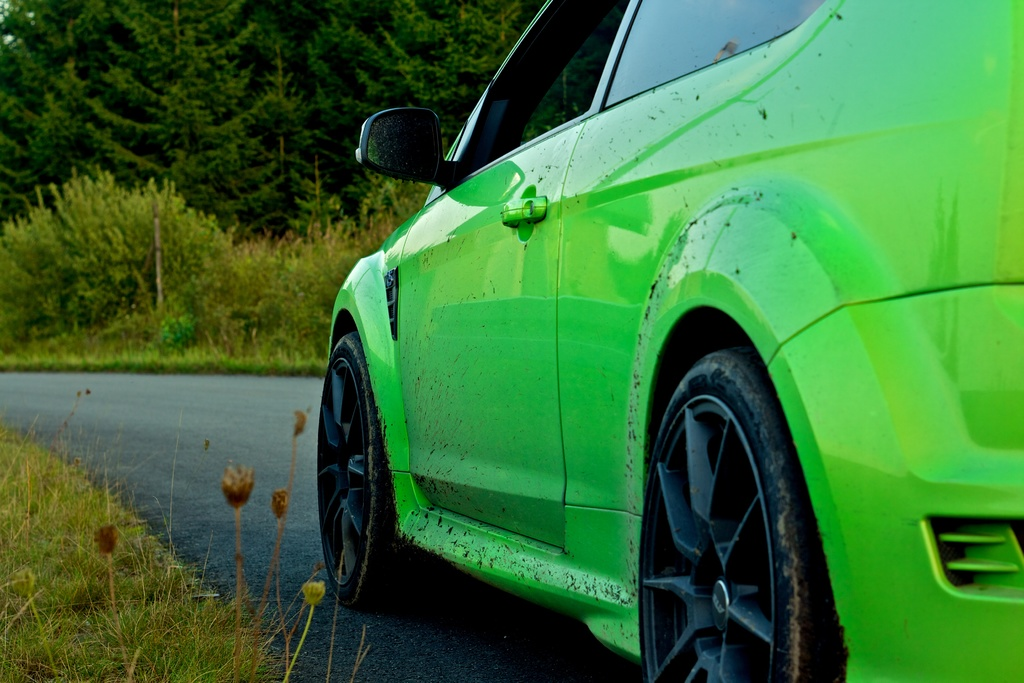Car: (312, 0, 1023, 682)
